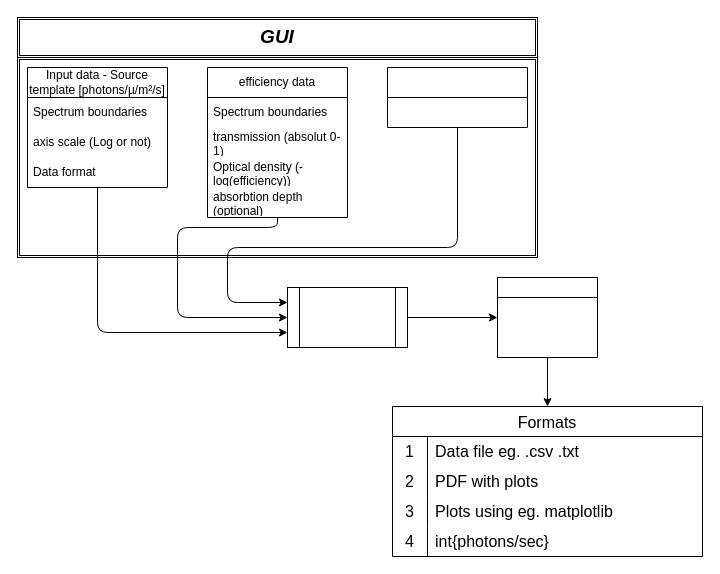
Some shapes in this 720 by 574 pixel diagram are drawn without their labels. The centre of each missing label's shape, as x and y in pixels:
Output data: point 547,317
Signal processing: point 347,317
